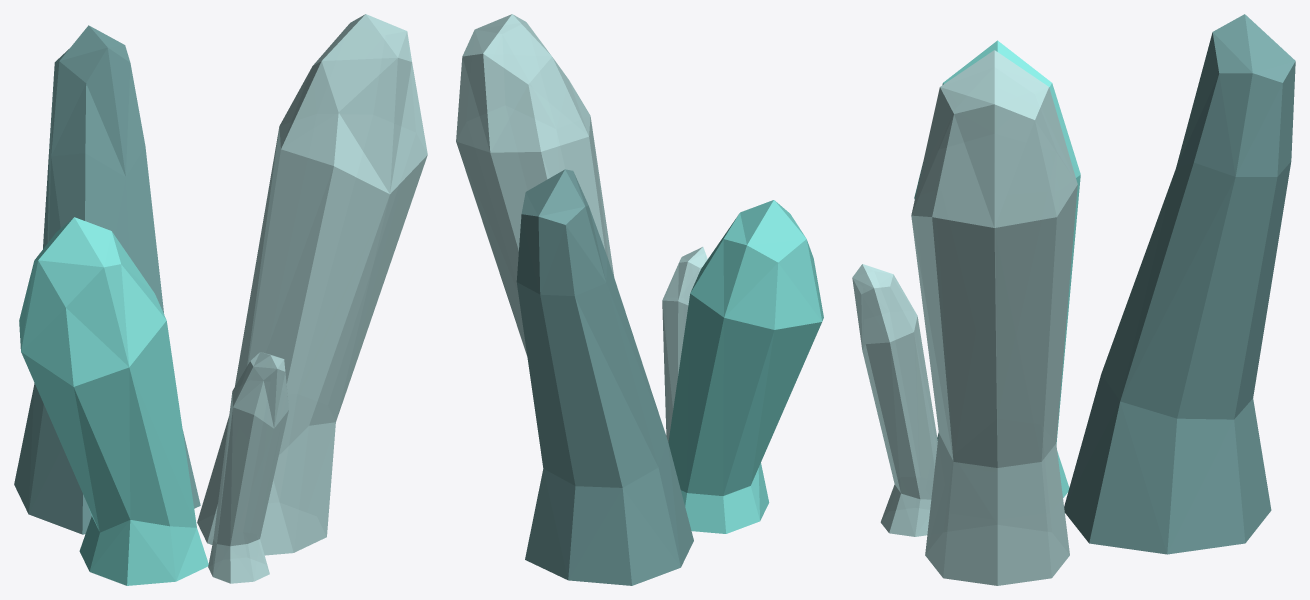
File: Crystal_blue_small.fbx
3 renders of one model, left to right at view 1: azimuth 30°, elevation 25°; view 2: azimuth 150°, elevation 25°; view 3: azimuth 270°, elevation 25°, orthographic. The views are drawn at different scales.
Parts seen in each view (by area): view 1: prop_crystal_blue_small; view 2: prop_crystal_blue_small; view 3: prop_crystal_blue_small.
Part boxes in pixels (x1,y1,x2,y2): prop_crystal_blue_small: (14,14,427,585); prop_crystal_blue_small: (456,14,823,585); prop_crystal_blue_small: (852,14,1295,585).
Bounding box in the file's own units: 21.02 × 25.08 × 17.92.
